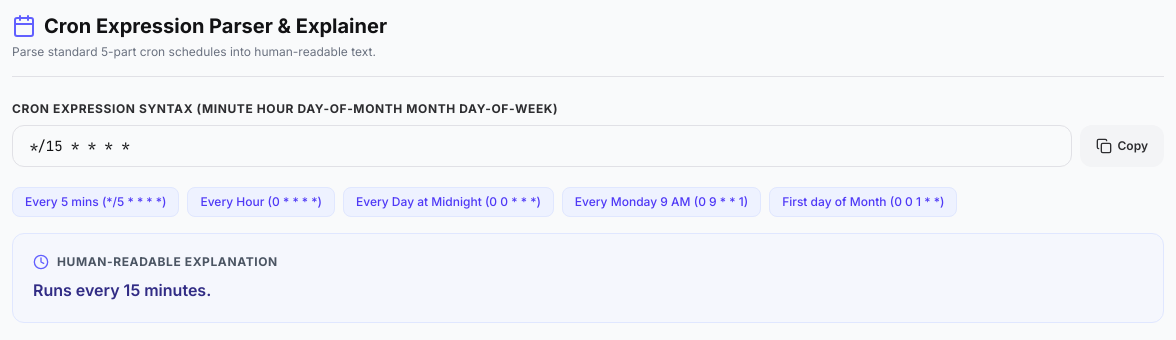
Test: CronTool Component › performs input validation and shows error for invalid expressions
Type an invalid cron (only 3 parts)
Replace the text in the field with placeholder "e.g. 0 9 * * 1-5" with "* * *" at (542, 146), box 12,125 -> 1072,167
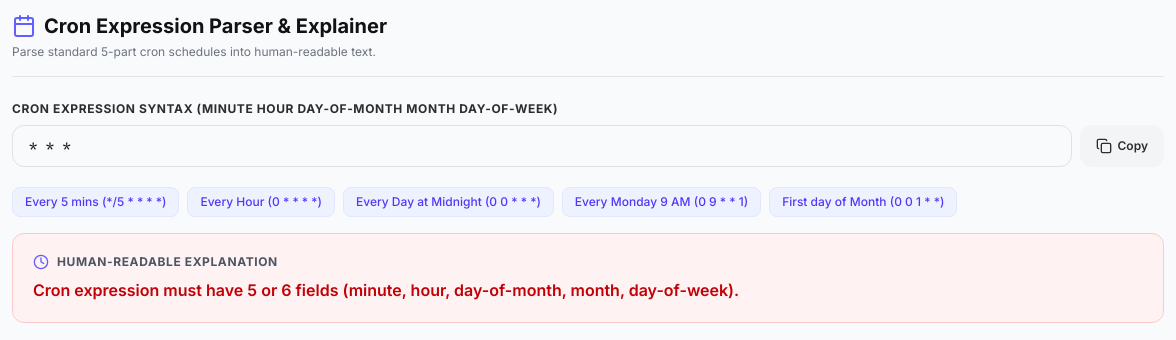
expect the text "must have 5 or 6 fields" is shown: met, box 33,280 -> 739,300
